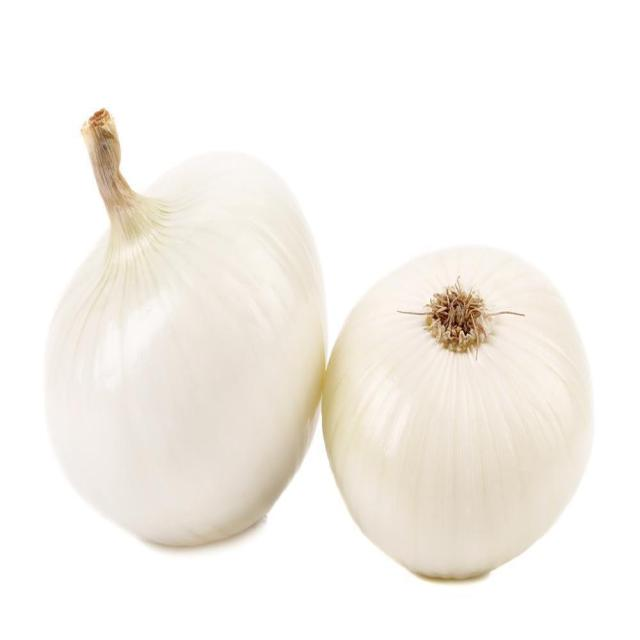Onion: (43, 105, 327, 545), (324, 242, 593, 575)
